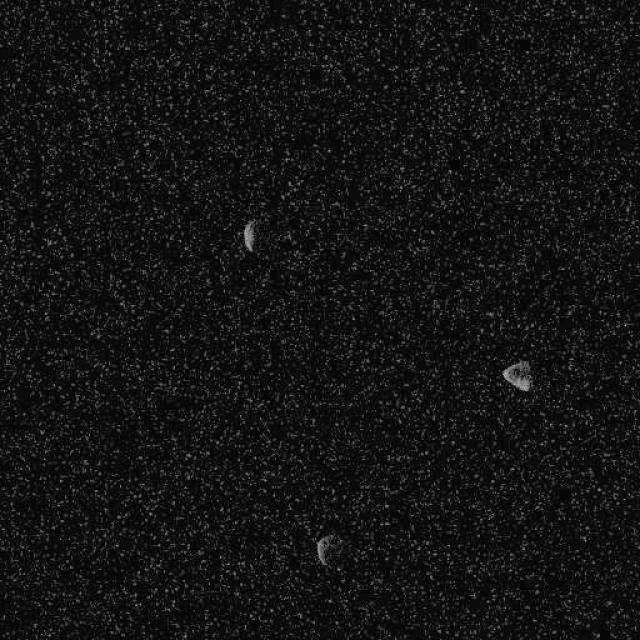D2: (501, 358, 534, 392), (315, 532, 344, 568), (242, 218, 256, 252)
